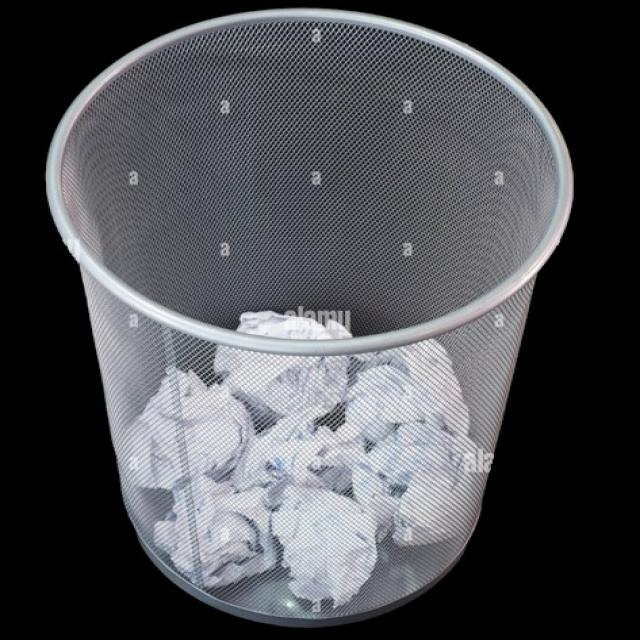metal: (37, 46, 593, 628)
paper: (287, 428, 472, 566), (129, 372, 263, 486)
